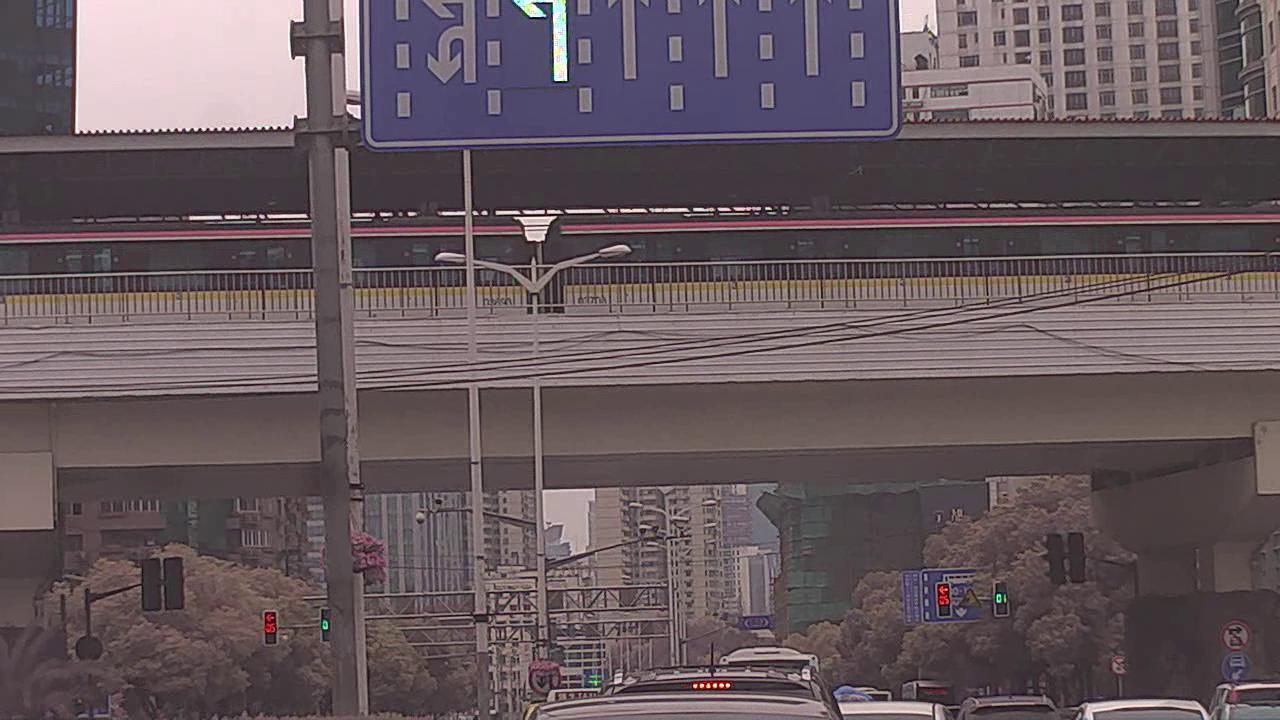traffic_light: (994, 576, 1011, 617), (262, 611, 279, 646), (320, 607, 333, 643), (938, 582, 952, 615)
